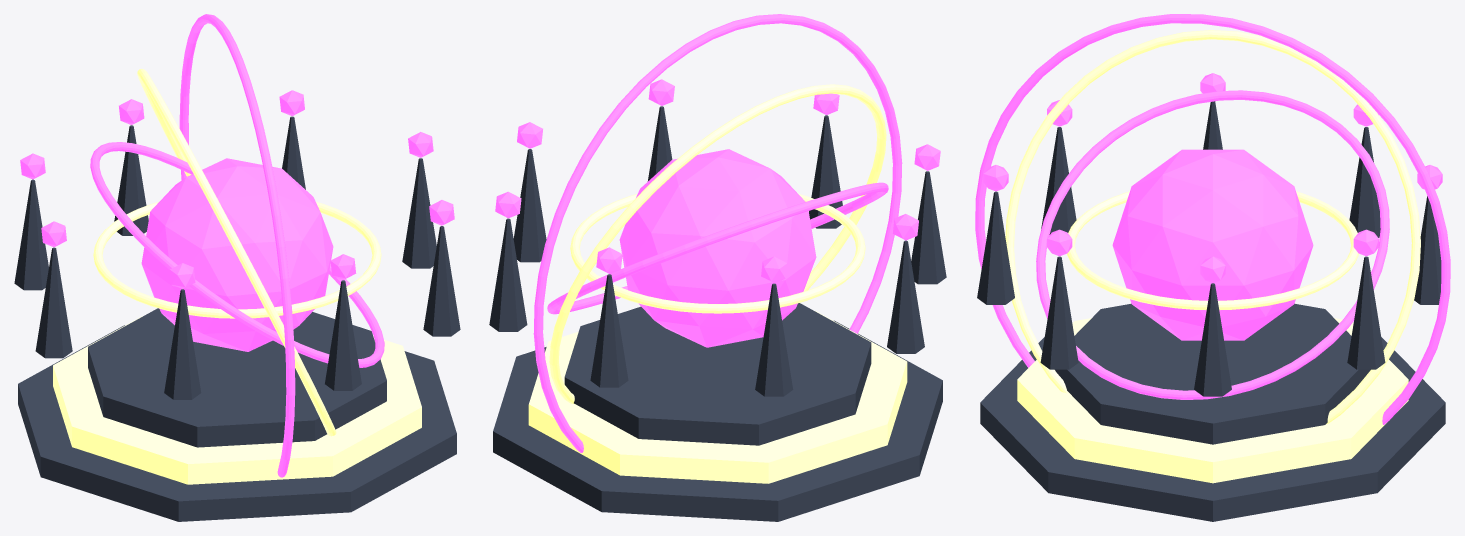
Rendered from gpu-blender-v13.glb.
3 views of the same model, side by side, from view 1: azimuth 30°, elevation 25°; view 2: azimuth 150°, elevation 25°; view 3: azimuth 270°, elevation 25° (orthographic). The views are drawn at different scales.
Parts seen in each view (by area): view 1: Cylinder.002, SovereignCore_reality-shader-forge, Cylinder, Cylinder.001, Torus.003, Torus.001, Torus.002, Torus, Cone.004, Cone.007, Cone.005, Cone.006 (+12 smaller); view 2: Cylinder.002, SovereignCore_reality-shader-forge, Cylinder, Cylinder.001, Torus.003, Torus.002, Torus.001, Torus, Cone.002, Cone.003, Cone.001, Cone.004 (+11 smaller); view 3: SovereignCore_reality-shader-forge, Cylinder.002, Cylinder, Cylinder.001, Torus.003, Torus.002, Torus.001, Torus, Cone, Cone.001, Cone.007, Cone.006 (+8 smaller).
Boxes of the visible parts, box(x1,y1,x2,y2) form: Cylinder.002: box(88, 308, 386, 447); SovereignCore_reality-shader-forge: box(141, 158, 333, 351); Cylinder: box(18, 325, 456, 521); Cylinder.001: box(53, 316, 421, 484); Torus.003: box(179, 14, 295, 477); Torus.001: box(90, 142, 384, 367); Torus.002: box(137, 69, 336, 436); Torus: box(93, 202, 381, 318); Cone.004: box(35, 247, 72, 358); Cone.007: box(423, 226, 460, 336); Cone.005: box(164, 289, 201, 399); Cone.006: box(325, 280, 361, 390); Cylinder.002: box(564, 303, 871, 445); SovereignCore_reality-shader-forge: box(619, 149, 816, 347); Cylinder: box(493, 320, 942, 521); Cylinder.001: box(528, 311, 907, 483); Torus.003: box(533, 14, 902, 452); Torus.002: box(549, 84, 886, 403); Torus.001: box(547, 182, 888, 314); Torus: box(570, 193, 865, 313); Cone.002: box(590, 274, 628, 387); Cone.003: box(755, 283, 793, 396); Cone.001: box(489, 218, 527, 331); Cone.004: box(887, 240, 924, 353); SovereignCore_reality-shader-forge: box(1112, 149, 1313, 340); Cylinder.002: box(1055, 303, 1370, 444); Cylinder: box(980, 337, 1445, 521); Cylinder.001: box(1017, 318, 1408, 483); Torus.003: box(975, 14, 1450, 424); Torus.002: box(1005, 30, 1420, 423); Torus.001: box(1036, 90, 1389, 399); Torus: box(1067, 191, 1358, 310); Cone: box(1194, 283, 1231, 396); Cone.001: box(1347, 256, 1385, 369); Cone.007: box(1040, 256, 1078, 369); Cone.006: box(977, 191, 1014, 304).
Size of the model in its own units: 4.41 by 4.7 by 4.49.
